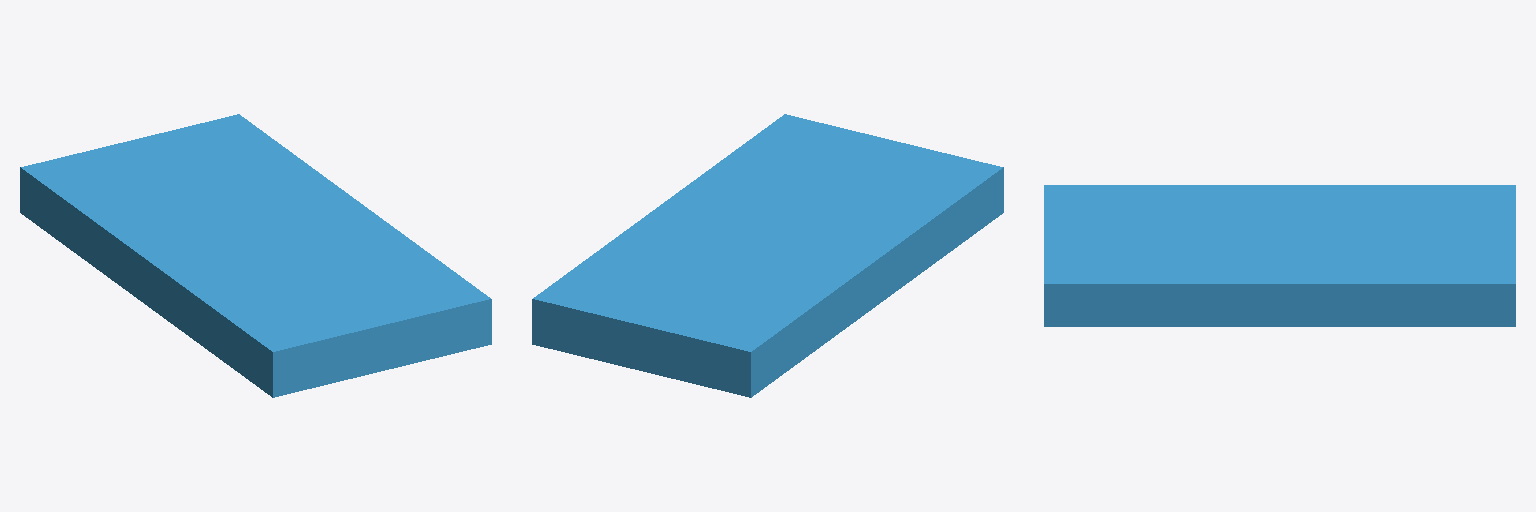
robot.urdf — table:
<robot name="table">

    <link name="world">
    </link>

    <joint name="world_to_block" type="fixed">
        <parent link="world"/>
        <child link="block"/>
    </joint>

    <link name="block">
        <inertial>
            <mass value="0.001"/>
            <inertia ixx="0.1" iyy="0.1" izz="0.1" ixy="0.0" ixz="0.0" iyz="0.0"/>
        </inertial>
        <visual>
            <origin xyz="0.025 0.0 -0.005"/>
            <geometry>
                <box size="0.05 0.1 0.01"/>
            </geometry>
        </visual>
        <collision>
            <origin xyz="0.025 0.0 -0.005"/>
            <geometry>
                <box size="0.05 0.1 0.01"/>
            </geometry>
        </collision>
    </link>

</robot>

--- Facts derived from the render (not from the file) ---
Views: 3 orthographic renders of the robot side by side, from view 1: azimuth 30°, elevation 25°; view 2: azimuth 150°, elevation 25°; view 3: azimuth 270°, elevation 25°.
Robot: table — 2 links, 1 joints (1 fixed); root link world; default pose: every joint at zero.
Links seen in each view (by area): view 1: block; view 2: block; view 3: block.
Boxes of the visible links, x1,y1,x2,y2 form: block: (20, 114, 491, 397); block: (532, 114, 1003, 397); block: (1044, 185, 1515, 326).
Size in the robot's own frame: 0.05 by 0.1 by 0.01 metres.
Geometry: primitives only (box / cylinder / sphere), no mesh files.